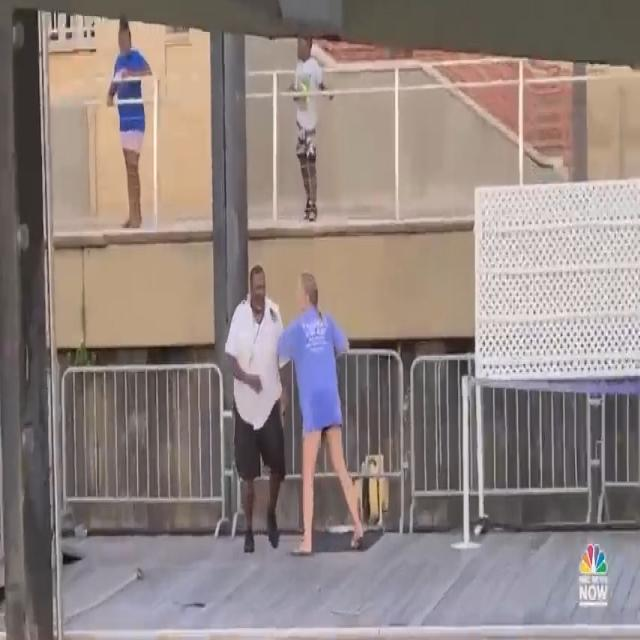non-fight: (200, 261, 381, 558), (96, 17, 180, 236), (279, 40, 341, 224)
